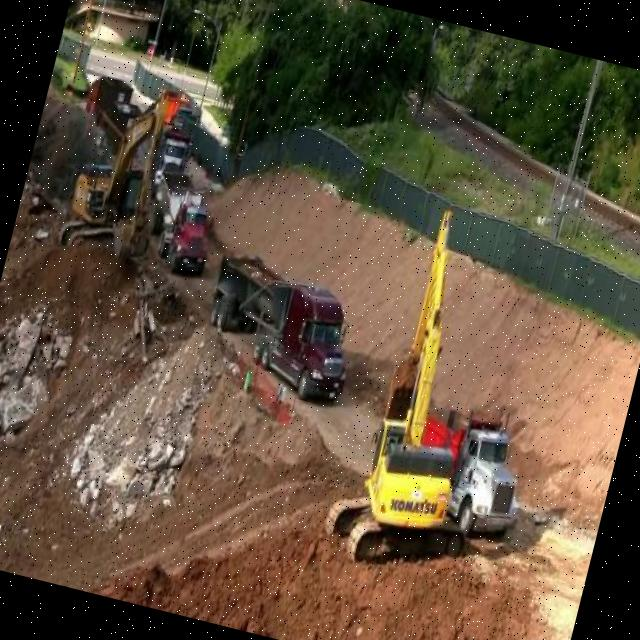Dump Truck: (192, 249, 368, 410), (407, 393, 542, 545), (141, 180, 222, 281), (154, 129, 192, 183)
Excavator: (318, 195, 536, 582), (57, 70, 185, 268)
